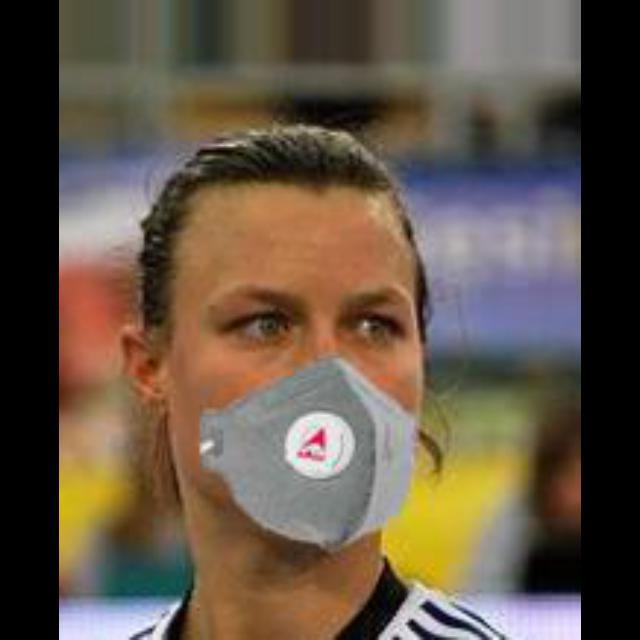suspicion: (142, 129, 480, 636)
